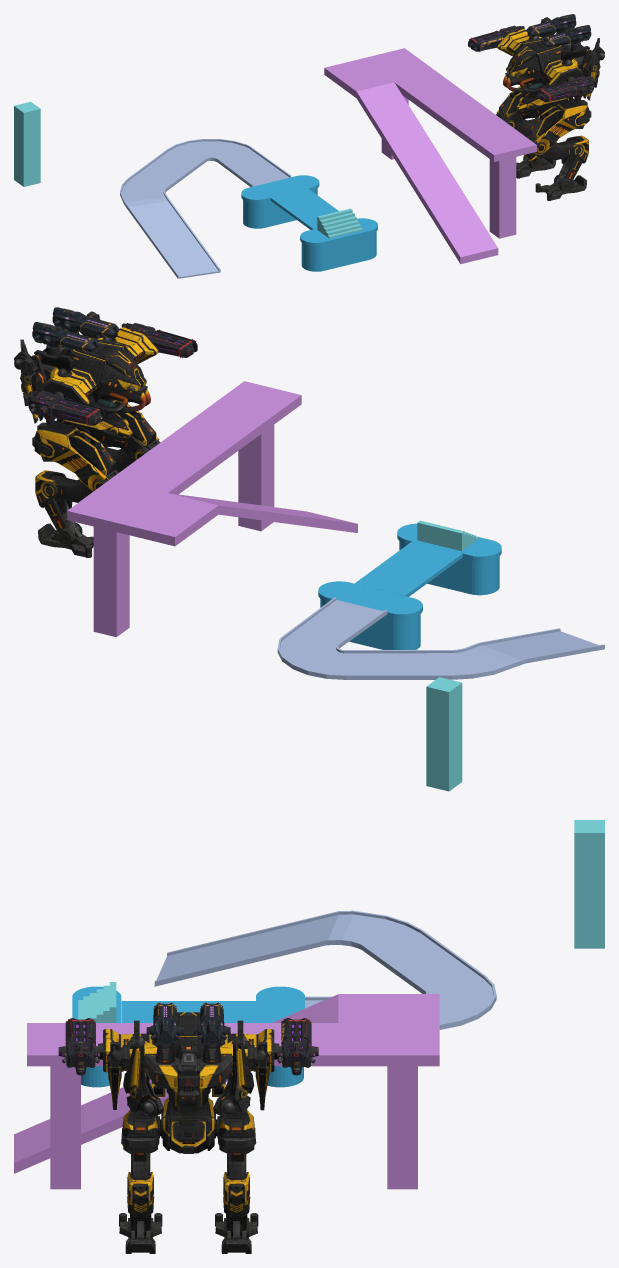
The model's file is bridge.glb.
3 renders of one model, top to bottom at view 1: azimuth 30°, elevation 25°; view 2: azimuth 150°, elevation 25°; view 3: azimuth 270°, elevation 25°, orthographic. The views are drawn at different scales.
Parts seen in each view (by area): view 1: Cube.001, Ares, Cube.002, Cylinder, Cube.005, Cube.008, Corona_Base_LOD0, Halo_Base_LOD0.001, Halo_Base_LOD0, Corona_BarL_LOD0; view 2: Cube.001, Ares, Cube.002, Cylinder, Cube.005, Cube.008, Corona_Base_LOD0.001, Halo_Base_LOD0, Halo_Base_LOD0.001, Corona_BarR_LOD0.001; view 3: Ares, Cube.001, Cube.002, Cylinder, Cube.005, Corona_Base_LOD0.001, Corona_Base_LOD0, Cube.008, Halo_Base_LOD0, Halo_Base_LOD0.001.
Part boxes in pixels (x1,y1,x2,y2): Cube.001: [324, 48, 536, 264]; Ares: [496, 17, 604, 200]; Cube.002: [120, 139, 291, 278]; Cylinder: [241, 175, 377, 271]; Cube.005: [14, 101, 40, 186]; Cube.008: [317, 208, 362, 238]; Corona_Base_LOD0: [540, 76, 593, 97]; Halo_Base_LOD0.001: [544, 25, 591, 43]; Halo_Base_LOD0: [529, 14, 576, 32]; Corona_BarL_LOD0: [540, 86, 576, 102]; Cube.001: [67, 381, 357, 637]; Ares: [14, 311, 160, 557]; Cube.002: [277, 597, 604, 679]; Cylinder: [318, 523, 501, 649]; Cube.005: [426, 677, 462, 791]; Cube.008: [417, 520, 478, 551]; Corona_Base_LOD0.001: [28, 390, 100, 419]; Halo_Base_LOD0: [32, 322, 94, 347]; Halo_Base_LOD0.001: [52, 307, 115, 332]; Corona_BarR_LOD0.001: [51, 403, 100, 425]; Ares: [98, 1012, 279, 1253]; Cube.001: [14, 994, 439, 1189]; Cube.002: [154, 910, 496, 1029]; Cylinder: [72, 986, 304, 1087]; Cube.005: [574, 820, 604, 948]; Corona_Base_LOD0.001: [277, 1019, 315, 1072]; Corona_Base_LOD0: [62, 1019, 99, 1072]; Cube.008: [78, 982, 116, 1022]; Halo_Base_LOD0: [197, 1003, 226, 1045]; Halo_Base_LOD0.001: [150, 1003, 180, 1045].
Size of what is drawn, in the model's own units: 51.56 by 18.05 by 38.6.
7 materials, 3 textured.
